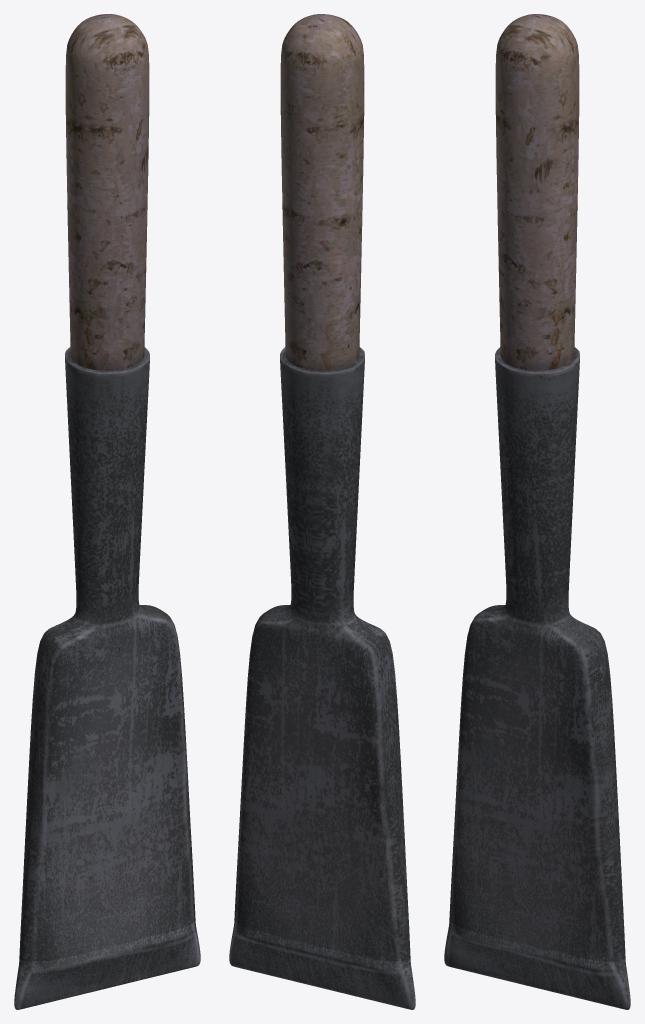
Rendered from chisel_v2.fbx.
3 renders of one model, left to right at view 1: azimuth 30°, elevation 25°; view 2: azimuth 150°, elevation 25°; view 3: azimuth 330°, elevation 25°, orthographic.
Parts seen in each view (by area): view 1: chisel.002; view 2: chisel.002; view 3: chisel.002.
Part boxes in pixels (x1,y1,x2,y2): chisel.002: [14, 14, 200, 1009]; chisel.002: [229, 14, 415, 1009]; chisel.002: [444, 14, 630, 1009].
Bounding box in the file's own units: 7.59 × 37.83 × 3.
